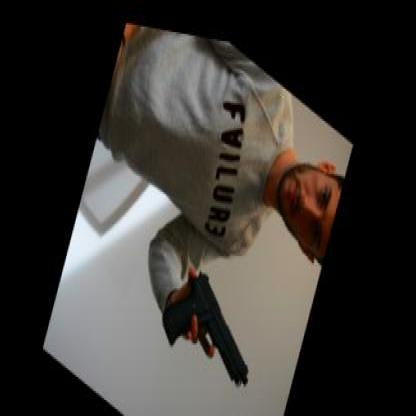pistol: (158, 241, 269, 397)
